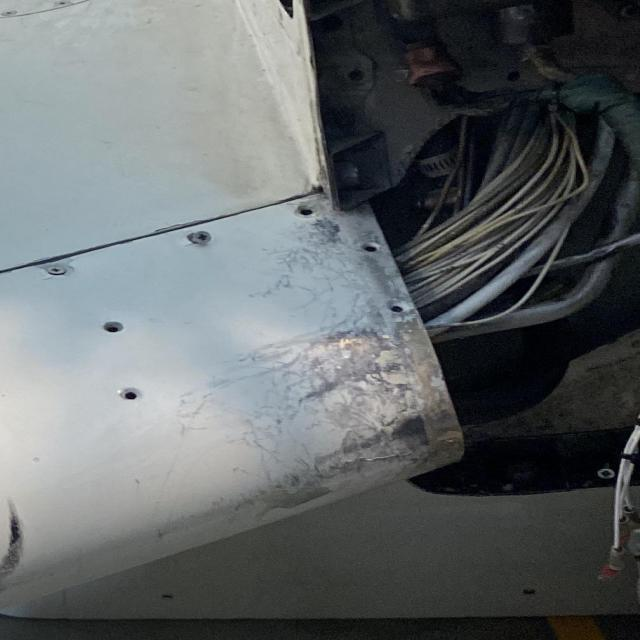Missing-head: (293, 201, 320, 219), (385, 299, 412, 317), (119, 388, 142, 403), (103, 321, 124, 334), (363, 242, 383, 254)
Scratch: (227, 323, 463, 519)
